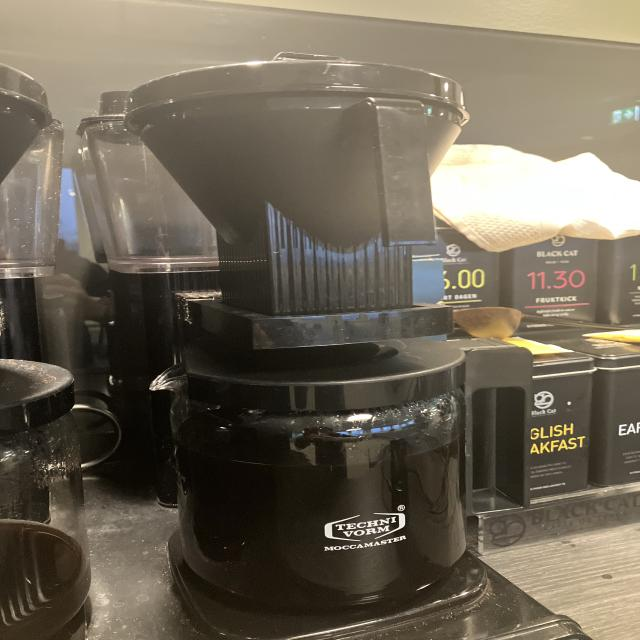coffee: (147, 339, 507, 601), (0, 352, 106, 640)
